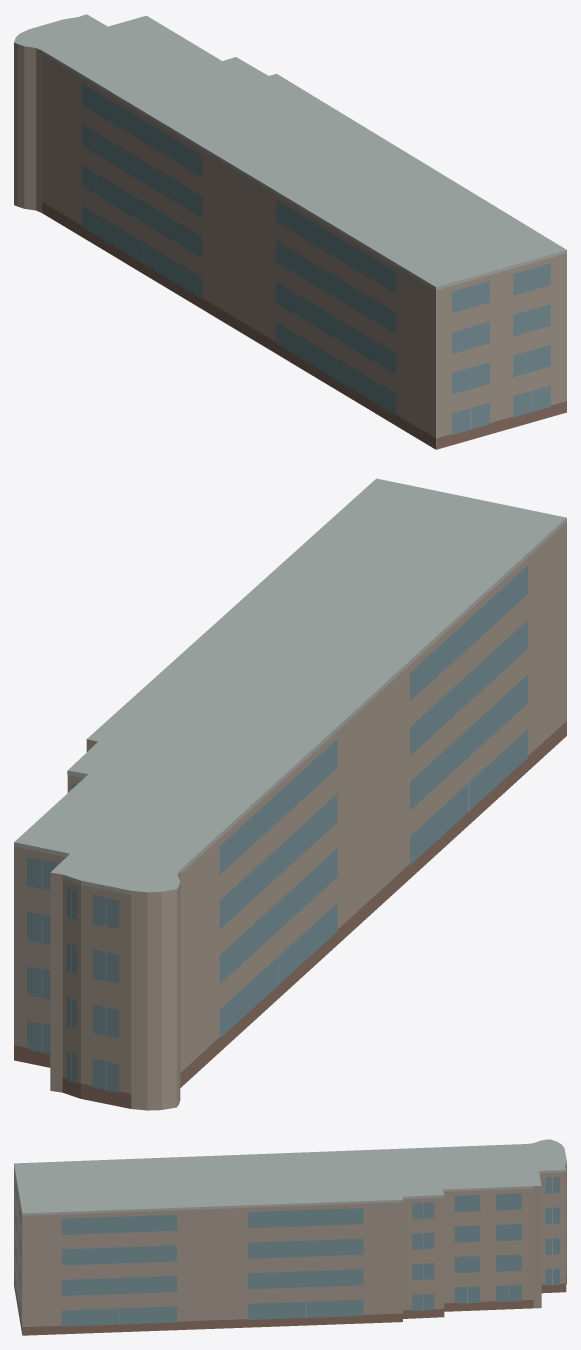
Rendered from survey-upis-32952306.glb.
3 renders of one model, top to bottom at view 1: azimuth 30°, elevation 25°; view 2: azimuth 150°, elevation 25°; view 3: azimuth 270°, elevation 25°, orthographic. The views are drawn at different scales.
Parts seen in each view (by area): view 1: survey-upis-32952306.tmp; view 2: survey-upis-32952306.tmp; view 3: survey-upis-32952306.tmp.
Boxes of the visible parts, <box> form: survey-upis-32952306.tmp: <box>14,14,566,449</box>; survey-upis-32952306.tmp: <box>14,478,566,1110</box>; survey-upis-32952306.tmp: <box>14,1139,566,1335</box>.
Bounding box in the file's own units: 15.88 × 12.2 × 50.01.
